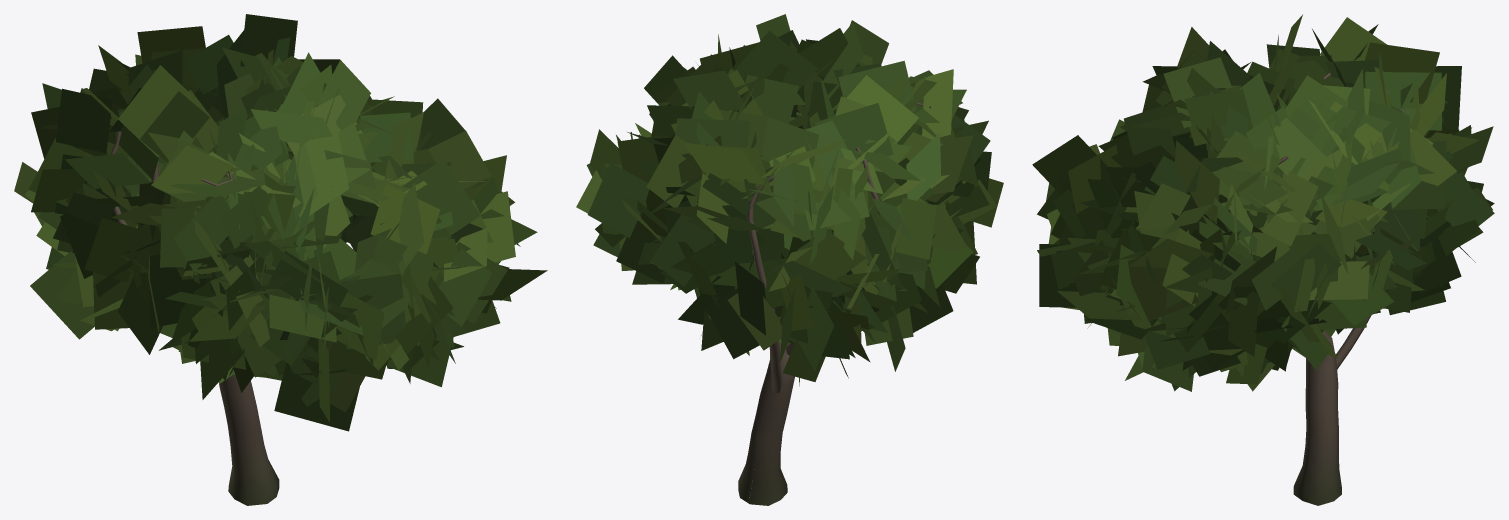
Rendered from broadleaf.oak.summer.glb.
The picture shows the model from 3 angles, left to right: view 1: azimuth 30°, elevation 25°; view 2: azimuth 150°, elevation 25°; view 3: azimuth 270°, elevation 25°; orthographic projection. The views are drawn at different scales.
Visible parts, largest first — view 1: broadleaf_oak_summer; view 2: broadleaf_oak_summer; view 3: broadleaf_oak_summer.
Boxes of the visible parts, <box> form: broadleaf_oak_summer: <box>14,14,547,505</box>; broadleaf_oak_summer: <box>576,14,1003,505</box>; broadleaf_oak_summer: <box>1032,14,1494,505</box>.
Size of what is drawn, in the model's own units: 7.98 by 8.87 by 8.58.
